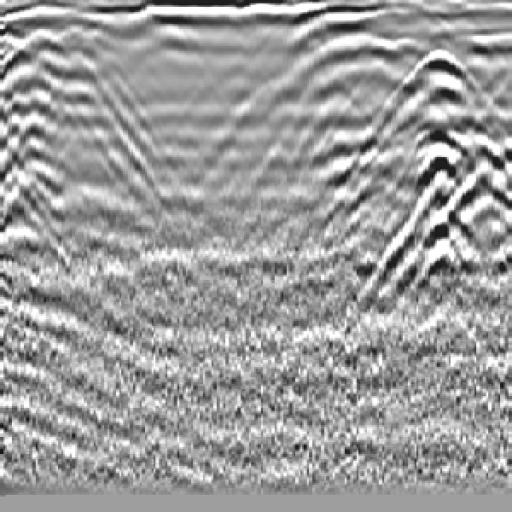non-metallic: (340, 36, 512, 308), (1, 29, 147, 232)
